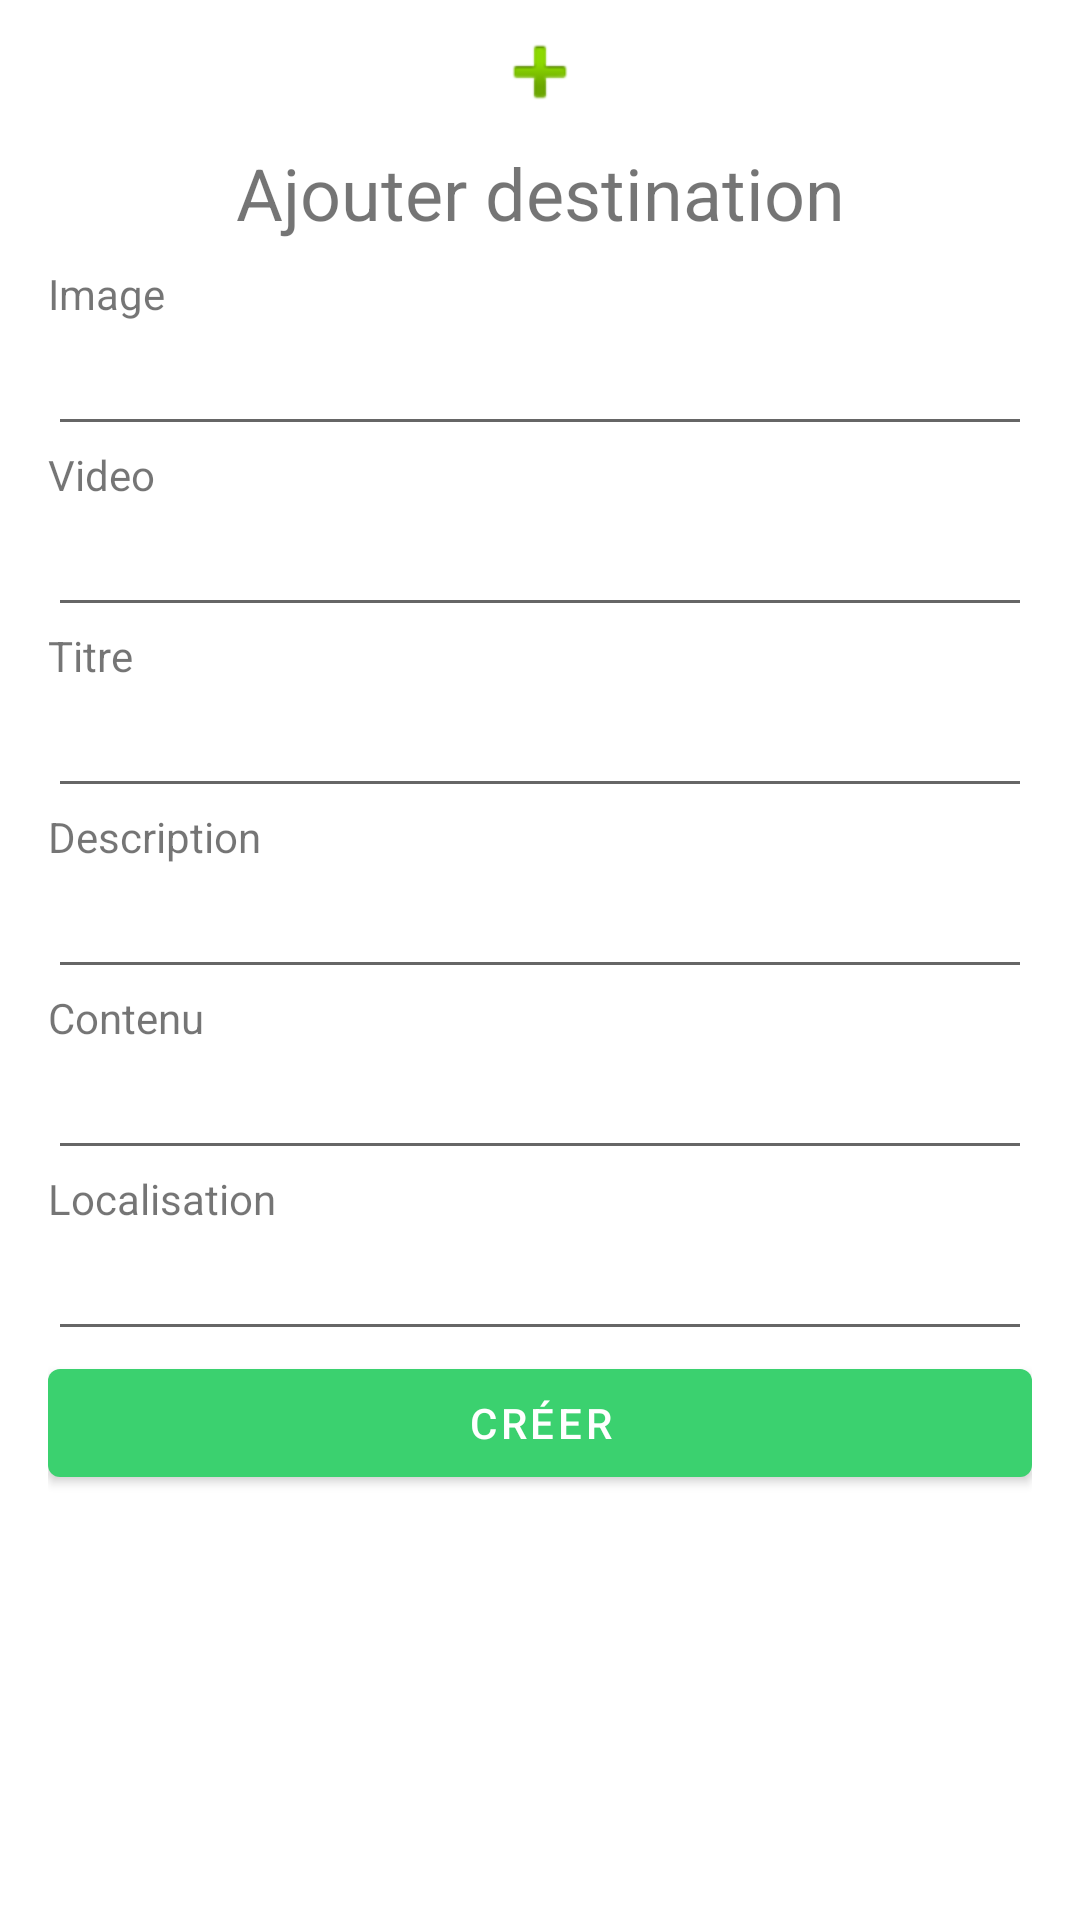

Where icons sit on this 1080*1920 app screen, as BBox(x1, y1, x2, y2):
add: BBox(513, 45, 567, 99)
